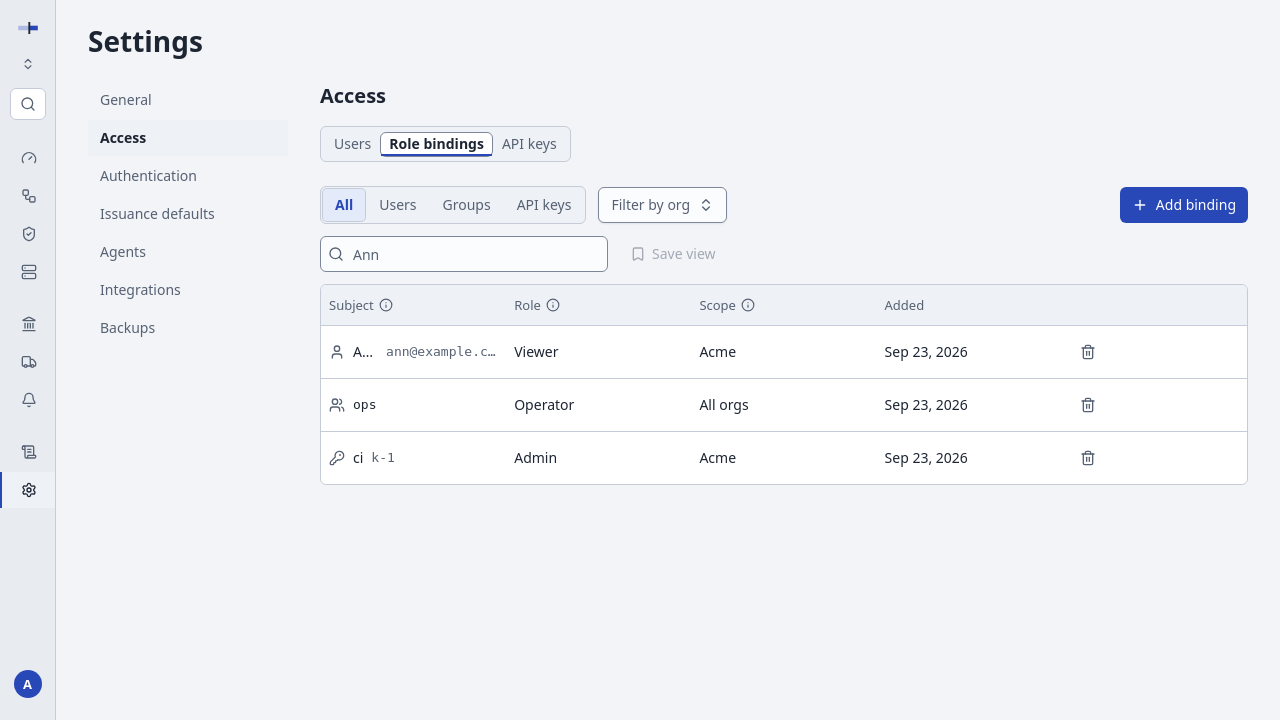
Test: filters bindings by a URL-synced search term
Expected: the link "Ann" is shown, [353,342,378,360]
Type "ops" into the field named "Search bindings" at (464, 254), box [320,236,608,272]
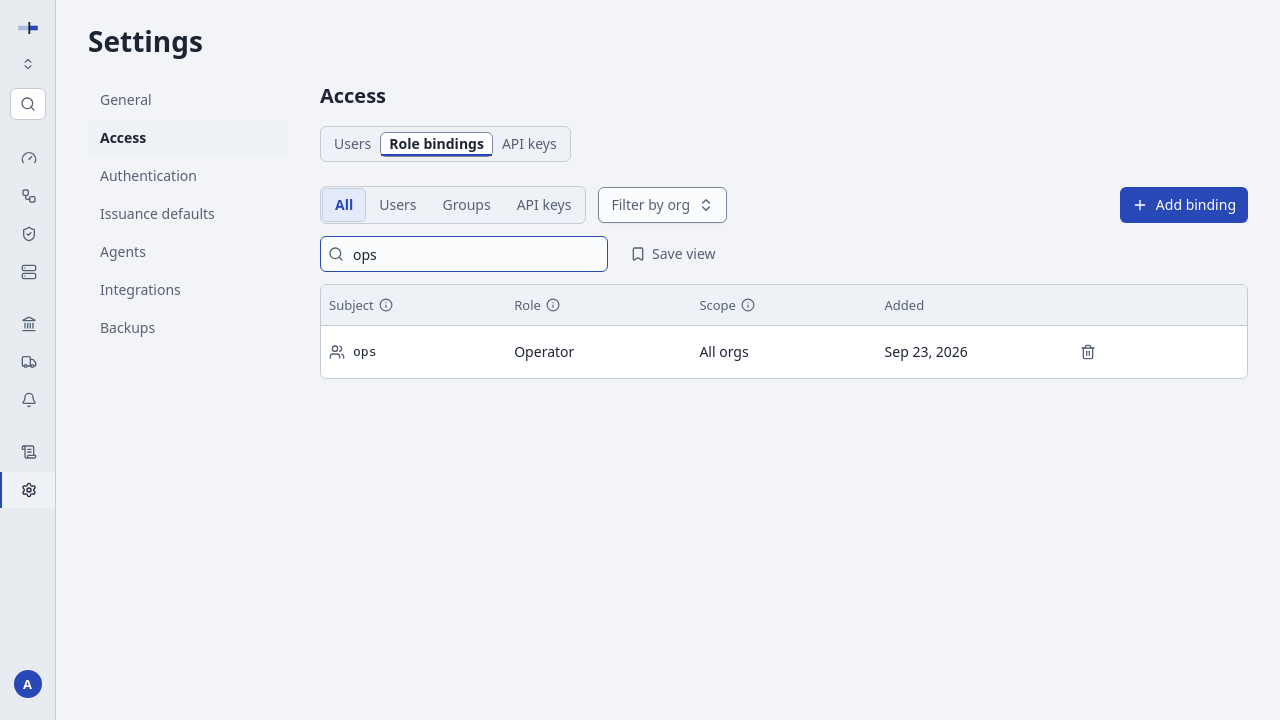
Expected: the text "ops" is shown, [353,342,376,360]
Result: the link "Ann" is gone
